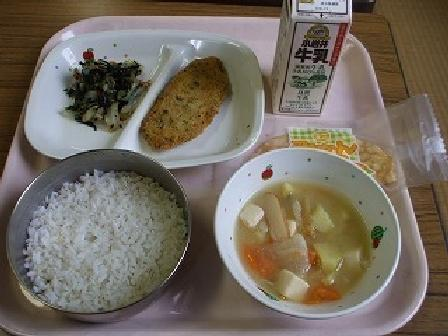Milk: (266, 0, 353, 118)
Rice: (4, 150, 195, 322)
Salad: (63, 37, 145, 131)
cutlet: (139, 45, 240, 151)
pastry: (231, 120, 429, 188)
vegetable soup: (216, 163, 402, 307)
